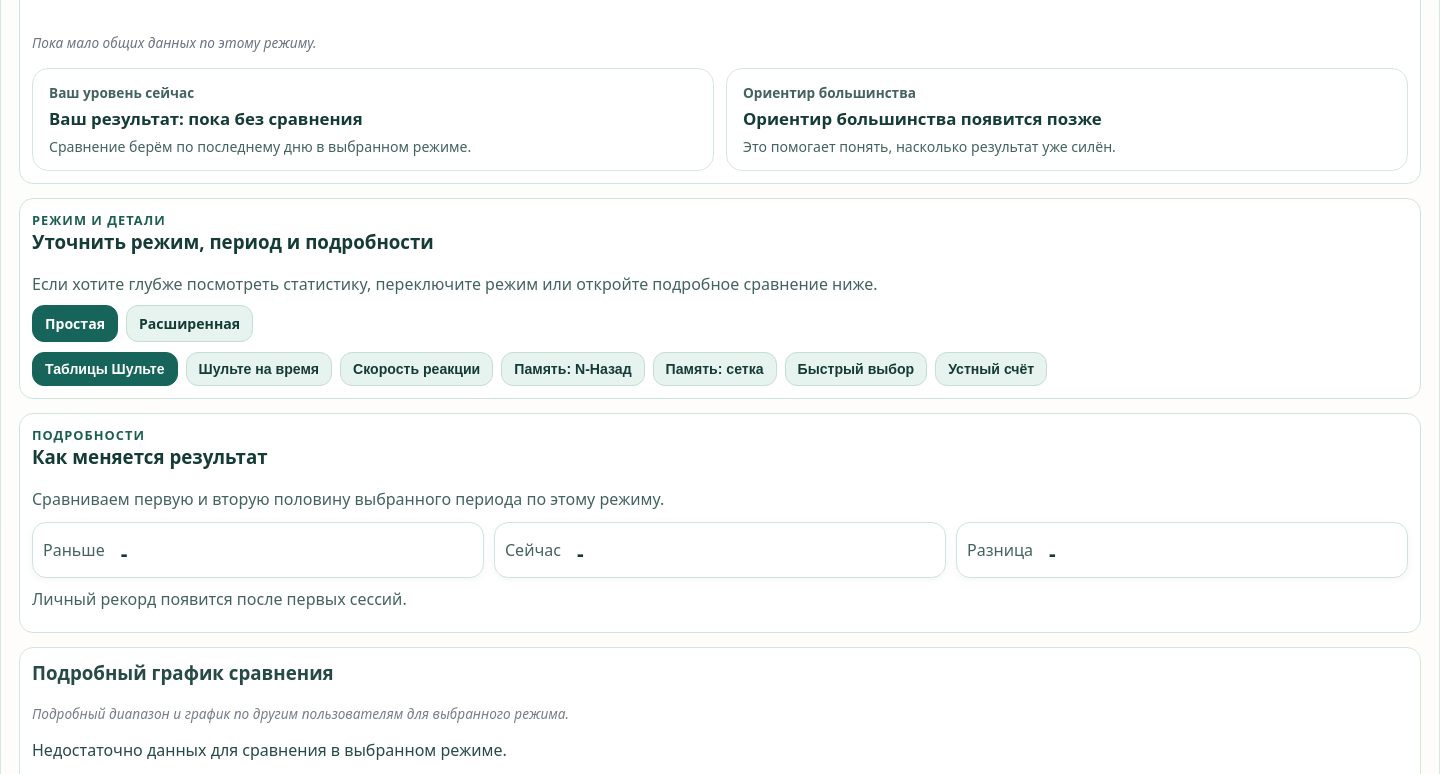
Test: StatsPage sprint filters › renders nback mode summary and chart data
(page scrolled)
Click the button with test id "stats-mode-nback". click: (573, 369)
box: [501,352,645,386]
(page scrolled)
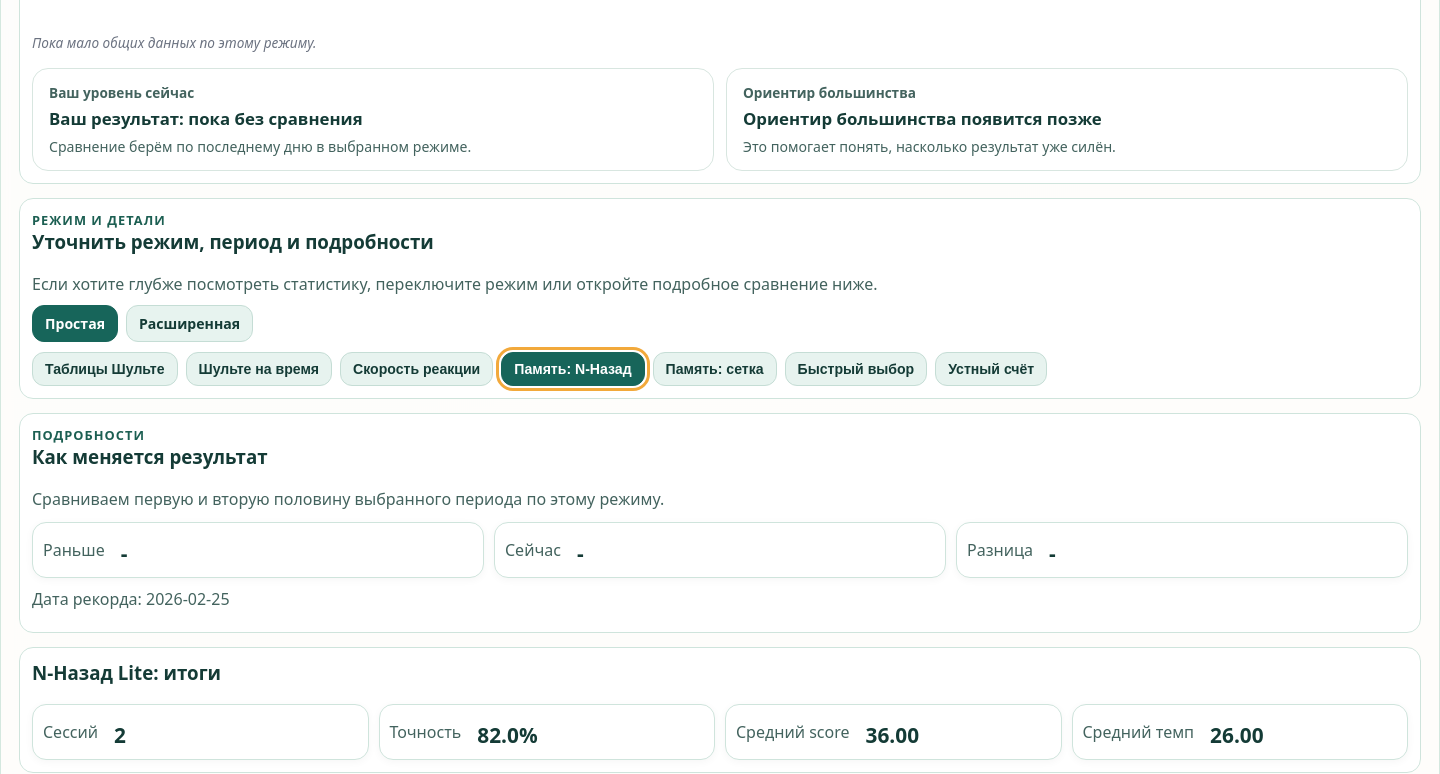
Check: the heading "N-Назад Lite: итоги" is shown, box [32,660,221,685]
Check: the text "2" is shown, box [114,721,126,749]
Check: the text "82.0%" is shown, box [477,721,538,749]
